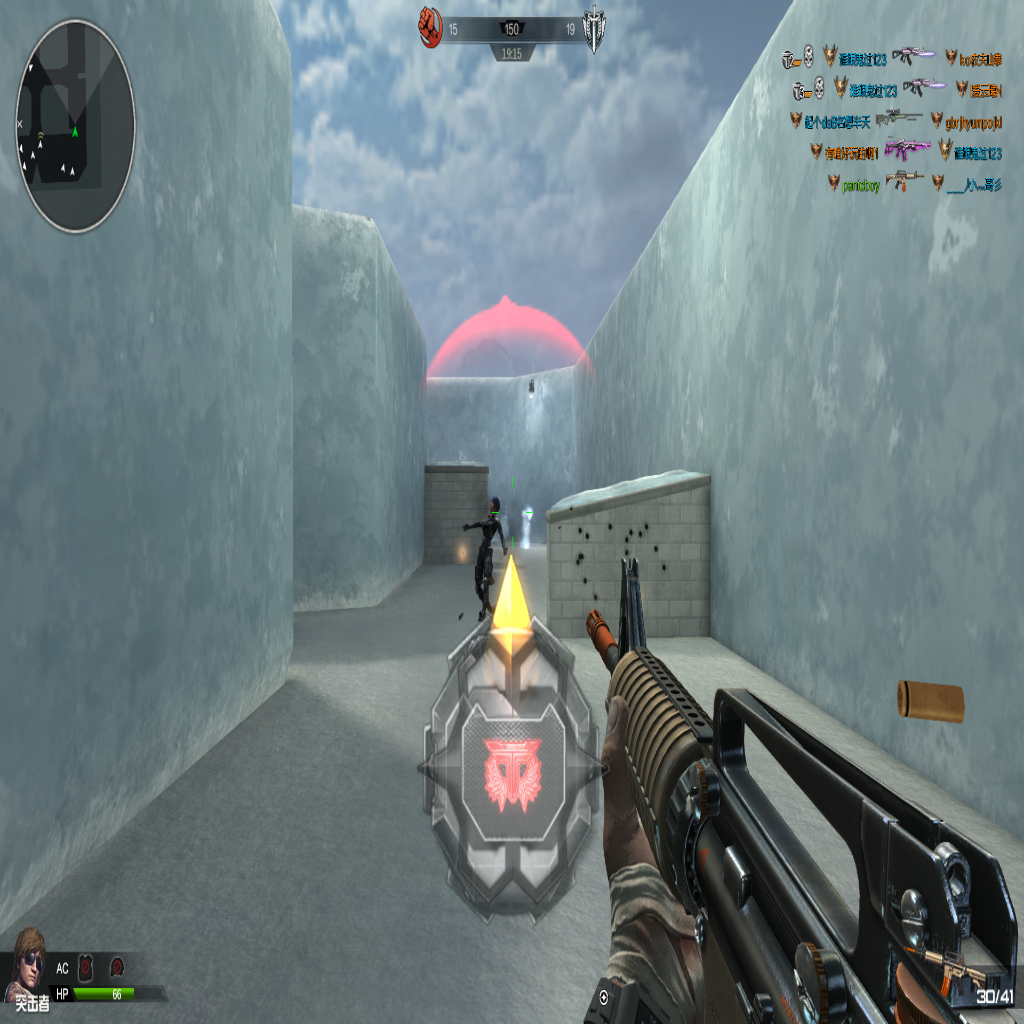ct: (466, 499, 506, 615)
